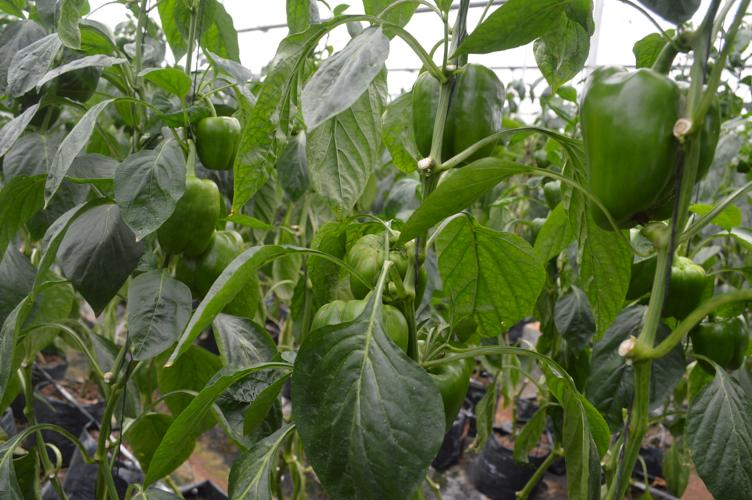BellPepper: (575, 67, 716, 222), (409, 66, 502, 156), (172, 232, 257, 315), (348, 234, 423, 301), (154, 176, 216, 254), (315, 302, 410, 352), (411, 341, 471, 414), (691, 311, 743, 372), (662, 257, 701, 318), (197, 117, 241, 167)
